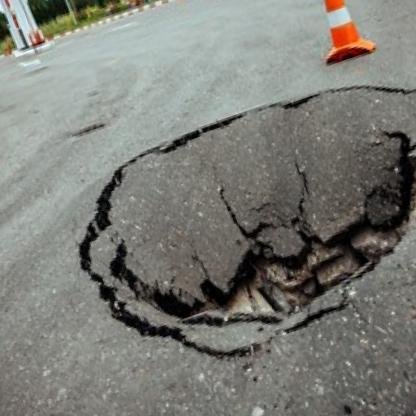pothole: (59, 66, 416, 374), (66, 117, 107, 144)
